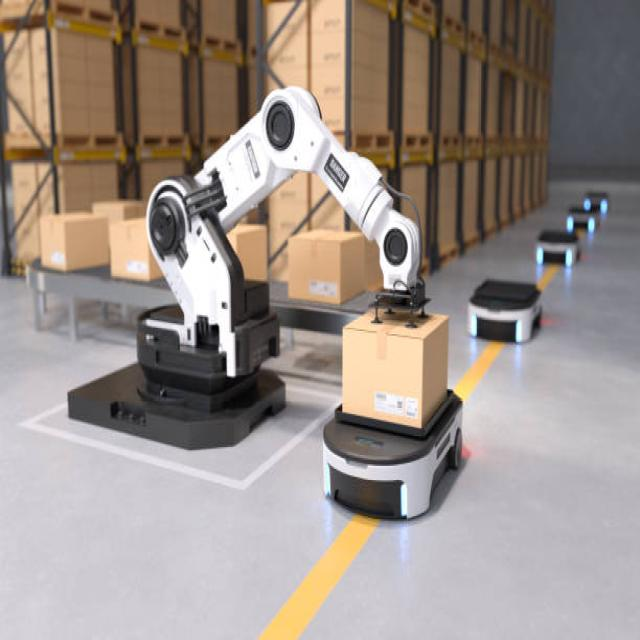Robotic-arm: (130, 72, 430, 396)
